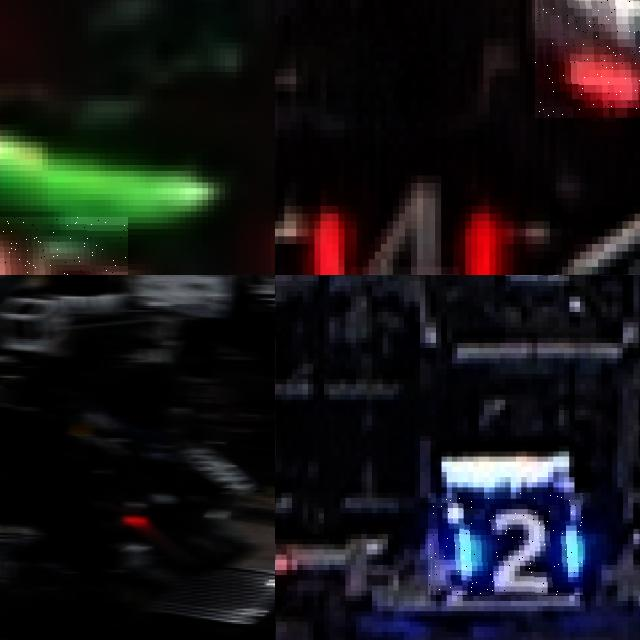B2: (428, 493, 583, 595)
R4: (290, 168, 531, 275), (534, 0, 640, 118)
R5: (0, 217, 128, 275)
